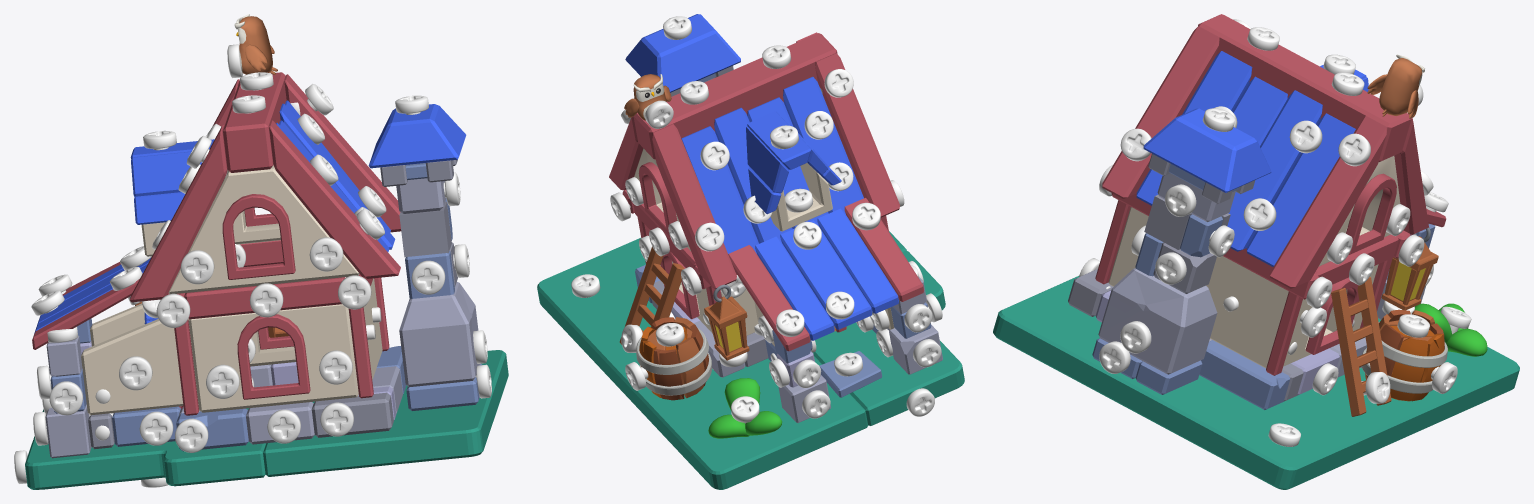
File: StoneHouse.fbx
3 views of the same model, side by side, from view 1: azimuth 30°, elevation 25°; view 2: azimuth 150°, elevation 25°; view 3: azimuth 270°, elevation 25° (orthographic). The views are drawn at different scales.
Visible parts, largest first — view 1: Screw (×21), Board_StoneHouse_8, Board_StoneHouse_60, Board_StoneHouse_13, Board_StoneHouse_40, Board_StoneHouse_33, Board_StoneHouse_17, Board_StoneHouse_50, Board_StoneHouse_48, Board_StoneHouse_19, Board_StoneHouse_47, Board_StoneHouse_6 (+26 smaller); view 2: Board_StoneHouse_60, Screw (×27), Board_StoneHouse_16, Board_StoneHouse_6, Board_StoneHouse_40, Board_StoneHouse_58, Board_StoneHouse_19, Board_StoneHouse_5, Board_StoneHouse_47, Board_StoneHouse_48, Board_StoneHouse_12, Board_StoneHouse_59 (+18 smaller); view 3: Board_StoneHouse_60, Screw (×22), Board_StoneHouse_55, Board_StoneHouse_37, Board_StoneHouse_33, Board_StoneHouse_6, Board_StoneHouse_49, Board_StoneHouse_47, Board_StoneHouse_38, Board_StoneHouse_50, Board_StoneHouse_12, Board_StoneHouse_21 (+16 smaller).
Part boxes in pixels (<box>): Screw (×21): <box>49,72,445,452</box>; Board_StoneHouse_8: <box>188,304,358,412</box>; Board_StoneHouse_60: <box>33,350,508,476</box>; Board_StoneHouse_13: <box>168,165,359,293</box>; Board_StoneHouse_40: <box>25,438,265,489</box>; Board_StoneHouse_33: <box>399,282,479,387</box>; Board_StoneHouse_17: <box>81,319,183,415</box>; Board_StoneHouse_50: <box>269,120,400,278</box>; Board_StoneHouse_48: <box>130,125,227,302</box>; Board_StoneHouse_19: <box>130,139,214,256</box>; Board_StoneHouse_47: <box>368,104,466,168</box>; Board_StoneHouse_6: <box>223,72,286,172</box>; Board_StoneHouse_60: <box>537,231,906,489</box>; Screw (×27): <box>571,16,941,423</box>; Board_StoneHouse_16: <box>755,208,898,340</box>; Board_StoneHouse_6: <box>633,33,837,159</box>; Board_StoneHouse_40: <box>813,250,964,425</box>; Board_StoneHouse_58: <box>681,107,792,253</box>; Board_StoneHouse_19: <box>746,111,841,231</box>; Board_StoneHouse_5: <box>652,124,736,288</box>; Board_StoneHouse_47: <box>625,14,740,92</box>; Board_StoneHouse_48: <box>815,53,899,217</box>; Board_StoneHouse_12: <box>636,317,711,400</box>; Board_StoneHouse_59: <box>747,76,863,228</box>; Board_StoneHouse_60: <box>993,276,1519,489</box>; Screw (×22): <box>1099,27,1457,446</box>; Board_StoneHouse_55: <box>1095,200,1302,375</box>; Board_StoneHouse_37: <box>1227,90,1355,266</box>; Board_StoneHouse_33: <box>1098,268,1217,374</box>; Board_StoneHouse_6: <box>1198,14,1411,161</box>; Board_StoneHouse_49: <box>1269,116,1387,288</box>; Board_StoneHouse_47: <box>1143,108,1271,192</box>; Board_StoneHouse_38: <box>1136,51,1287,205</box>; Board_StoneHouse_50: <box>1102,26,1219,198</box>; Board_StoneHouse_12: <box>1361,309,1447,401</box>; Board_StoneHouse_21: <box>1331,277,1391,416</box>.
Bounding box in the file's own units: 11.62 × 9.42 × 11.44.
2 materials, 1 textured.
